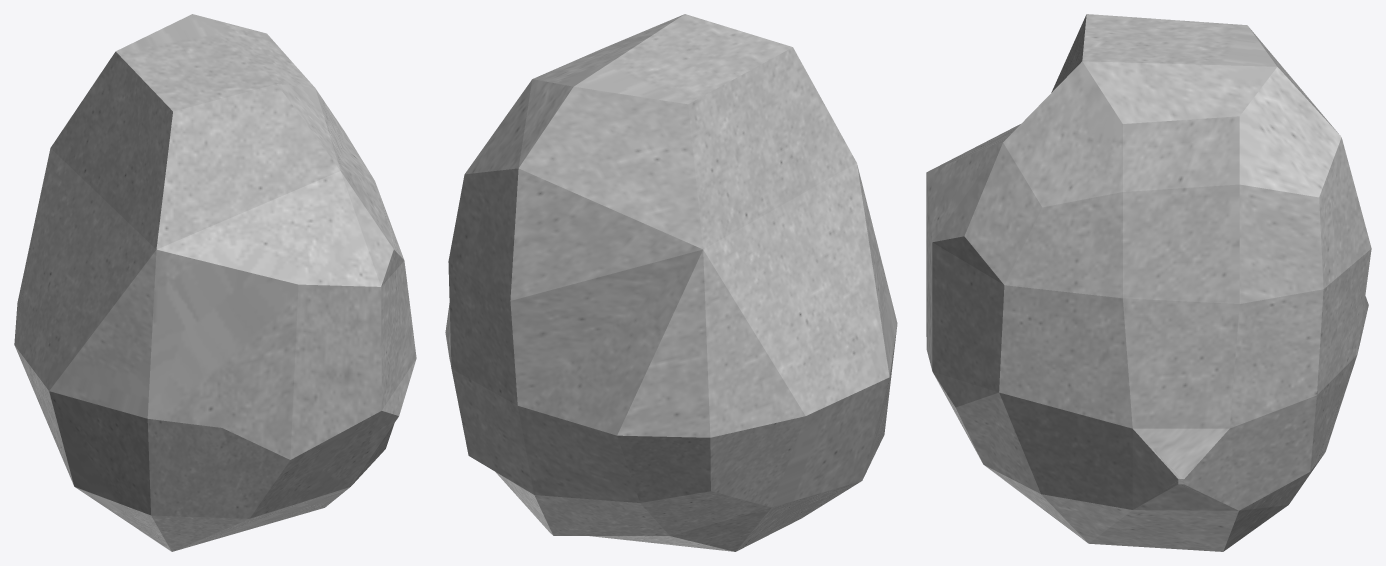
Rendered from IceHailB.gltf.
3 views of the same model, side by side, from view 1: azimuth 30°, elevation 25°; view 2: azimuth 150°, elevation 25°; view 3: azimuth 270°, elevation 25° (orthographic). The views are drawn at different scales.
Parts seen in each view (by area): view 1: FoM_IceHail_TypeB-001; view 2: FoM_IceHail_TypeB-001; view 3: FoM_IceHail_TypeB-001.
Boxes of the visible parts, left/top/right/bottom form: FoM_IceHail_TypeB-001: left=14, top=14, right=416, bottom=551; FoM_IceHail_TypeB-001: left=445, top=14, right=897, bottom=551; FoM_IceHail_TypeB-001: left=926, top=14, right=1371, bottom=551.
Size of the model in its own units: 1.39 by 1.56 by 1.36.
1 material, 1 textured.
